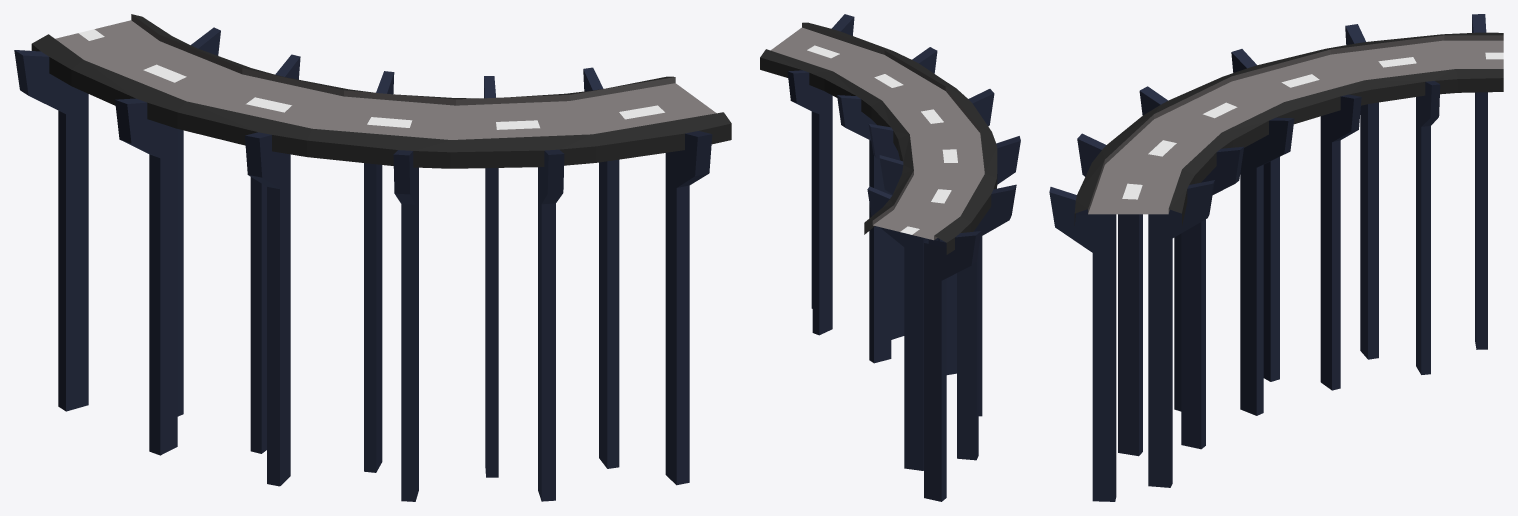
Rendered from road_bend_11_right_type_03.fbx.
3 views of the same model, side by side, from view 1: azimuth 30°, elevation 25°; view 2: azimuth 150°, elevation 25°; view 3: azimuth 270°, elevation 25° (orthographic). The views are drawn at different scales.
Visible parts, largest first — view 1: road_bend_11_right_type_03; view 2: road_bend_11_right_type_03; view 3: road_bend_11_right_type_03.
Part boxes in pixels (x1=…): road_bend_11_right_type_03: x1=14, y1=14, x2=731, y2=501; road_bend_11_right_type_03: x1=760, y1=14, x2=1020, y2=501; road_bend_11_right_type_03: x1=1049, y1=14, x2=1503, y2=501.
Size of the model in its own units: 1417 by 1057 by 1415.
1 material, 1 textured.
